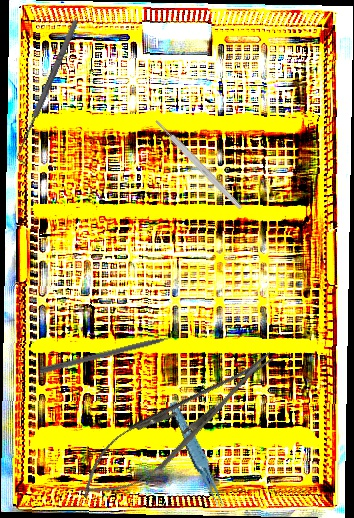Hook Surgical: (11, 17, 86, 166)
Needle Holder: (66, 334, 289, 516)
Pusher: (38, 330, 190, 376)
Scalpel Handle: (153, 117, 244, 212)
Tissue Forceps: (168, 397, 227, 516)
